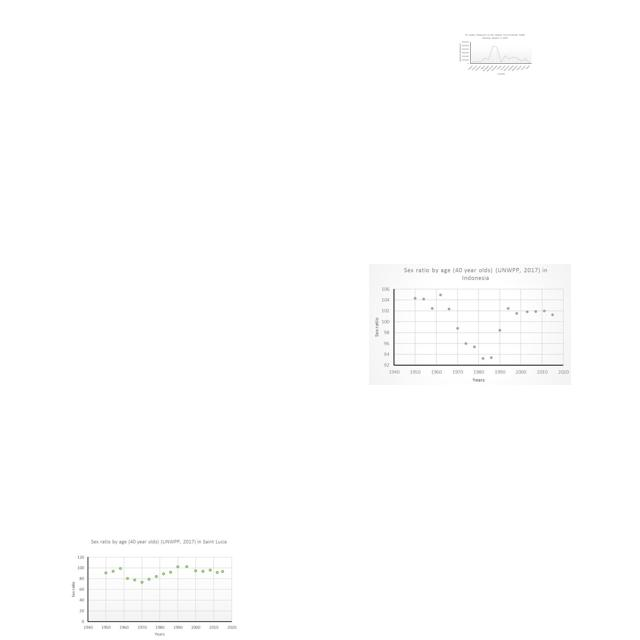Graph: (369, 264, 571, 385), (66, 536, 239, 638), (457, 32, 532, 76)
